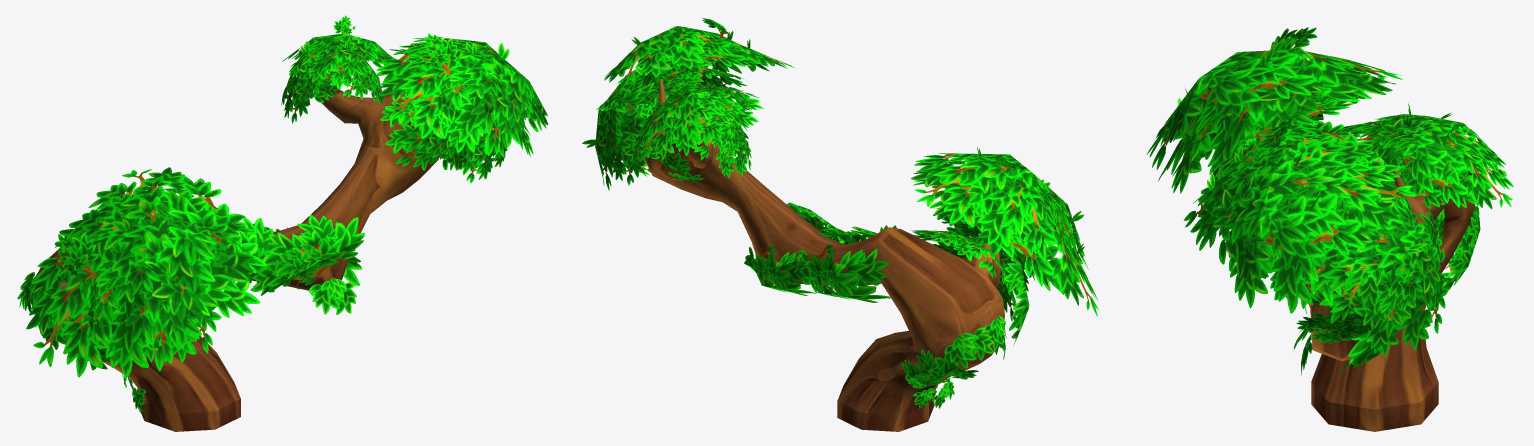
The model's file is 3_Verde_Claro.fbx.
3 views of the same model, side by side, from view 1: azimuth 30°, elevation 25°; view 2: azimuth 150°, elevation 25°; view 3: azimuth 270°, elevation 25° (orthographic). The views are drawn at different scales.
Visible parts, largest first — view 1: 3_Verde_Claro; view 2: 3_Verde_Claro; view 3: 3_Verde_Claro.
Part boxes in pixels (x1,y1,x2,y2): 3_Verde_Claro: (17, 15, 548, 431); 3_Verde_Claro: (582, 17, 1098, 431); 3_Verde_Claro: (1146, 27, 1513, 431).
Size of the model in its own units: 755 by 493 by 406.
